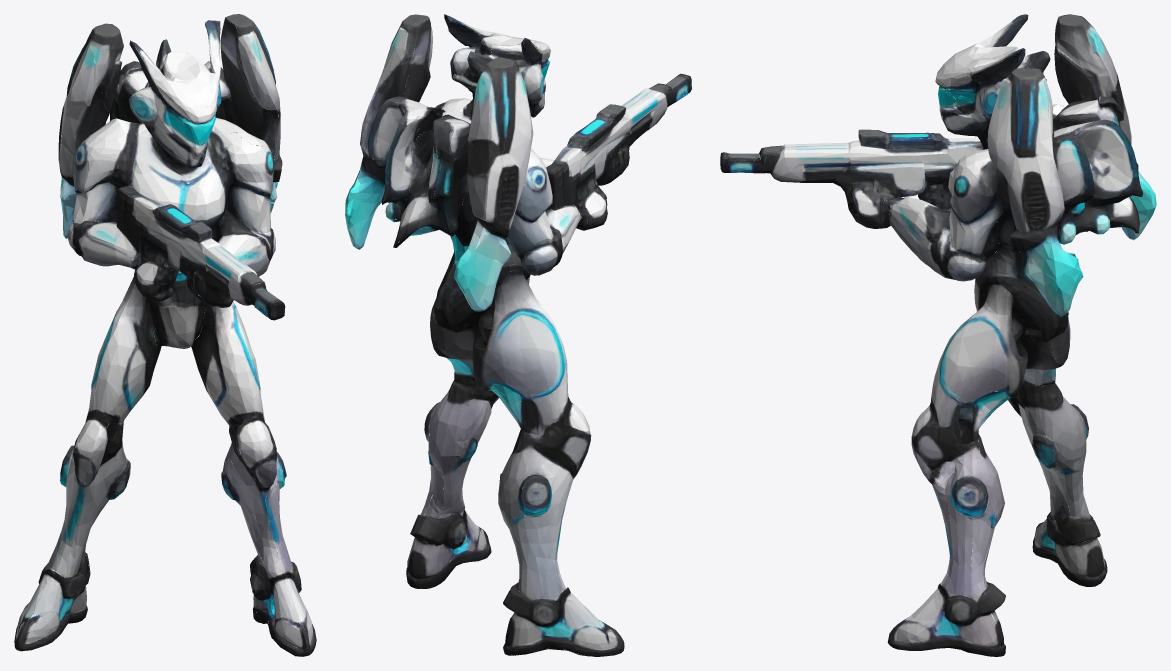
Rendered from helios-mech.glb.
3 renders of one model, left to right at view 1: azimuth 30°, elevation 25°; view 2: azimuth 150°, elevation 25°; view 3: azimuth 270°, elevation 25°, orthographic.
Visible parts, largest first — view 1: world; view 2: world; view 3: world.
Part boxes in pixels (x1=…): world: x1=14, y1=14, x2=316, y2=656; world: x1=345, y1=14, x2=691, y2=656; world: x1=720, y1=14, x2=1156, y2=656.
Bounding box in the file's own units: 0.4749 × 0.999 × 0.6766.
Materials: 1 (1 with a texture image).
